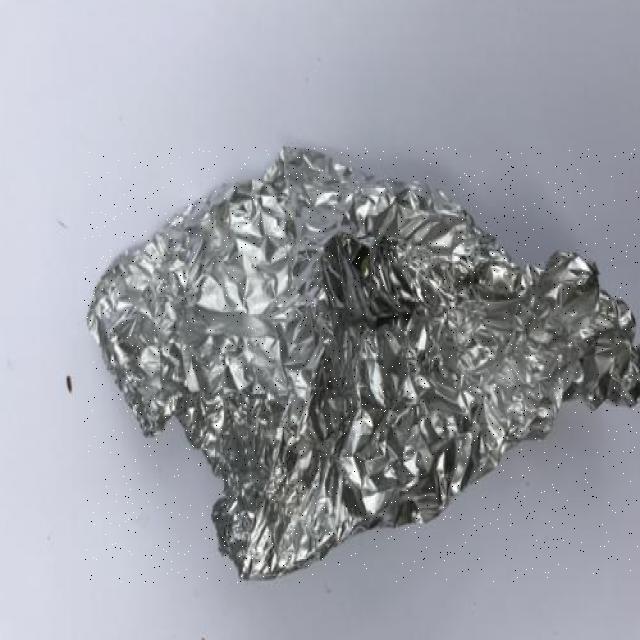metal: (85, 148, 640, 583)
